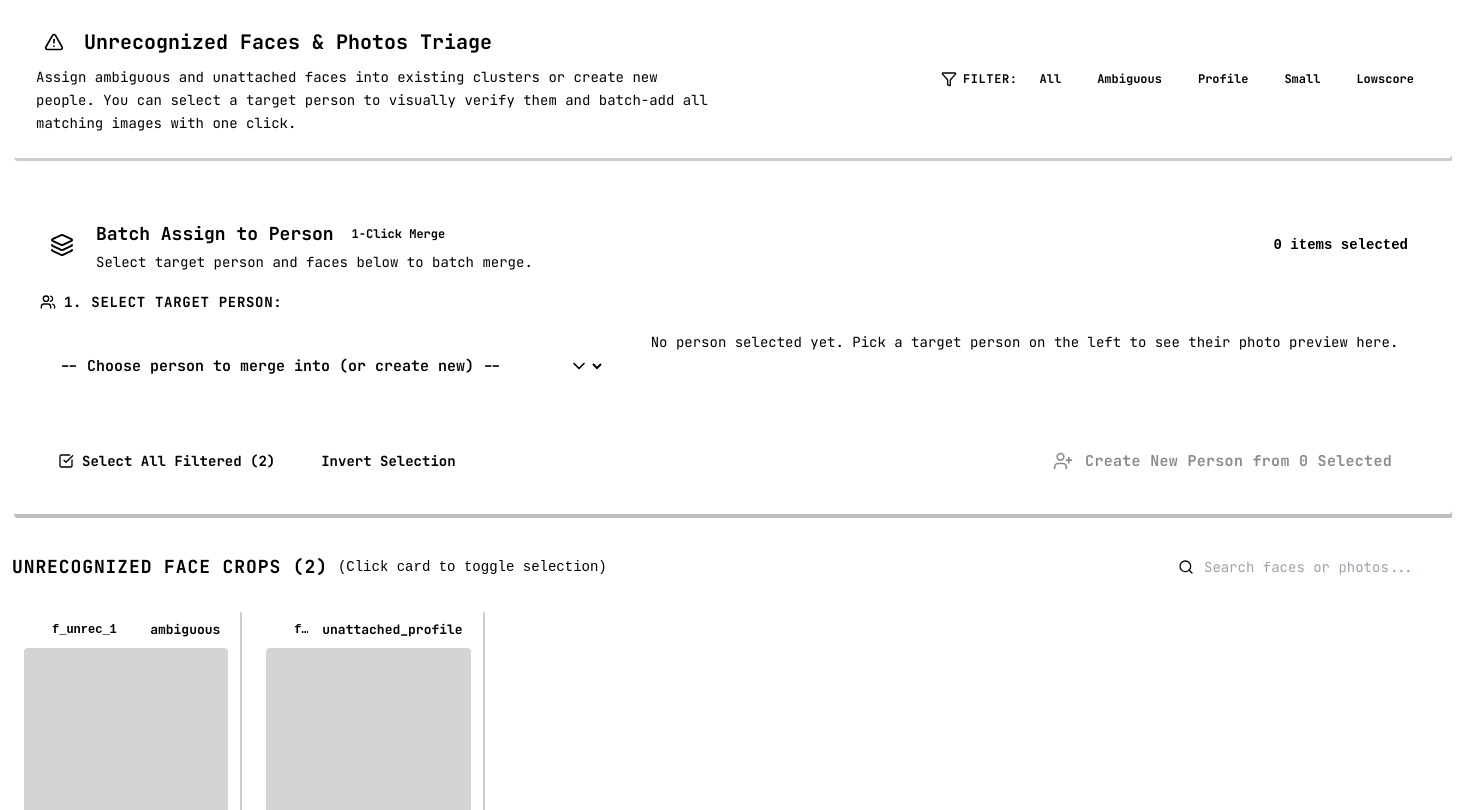
Scenario: Revamped Unrecognized Triage & Image Viewer › displays the target person preview when a person is selected in batch picker so user knows if correct to merge
The width and height of the screenshot is (1464, 810).
// Select Alice
Select "Alice Smith (person_alice) — 2 photos" in the dropdown with id "batch-target-person-select" at (322, 366), box [40,340,605,392]
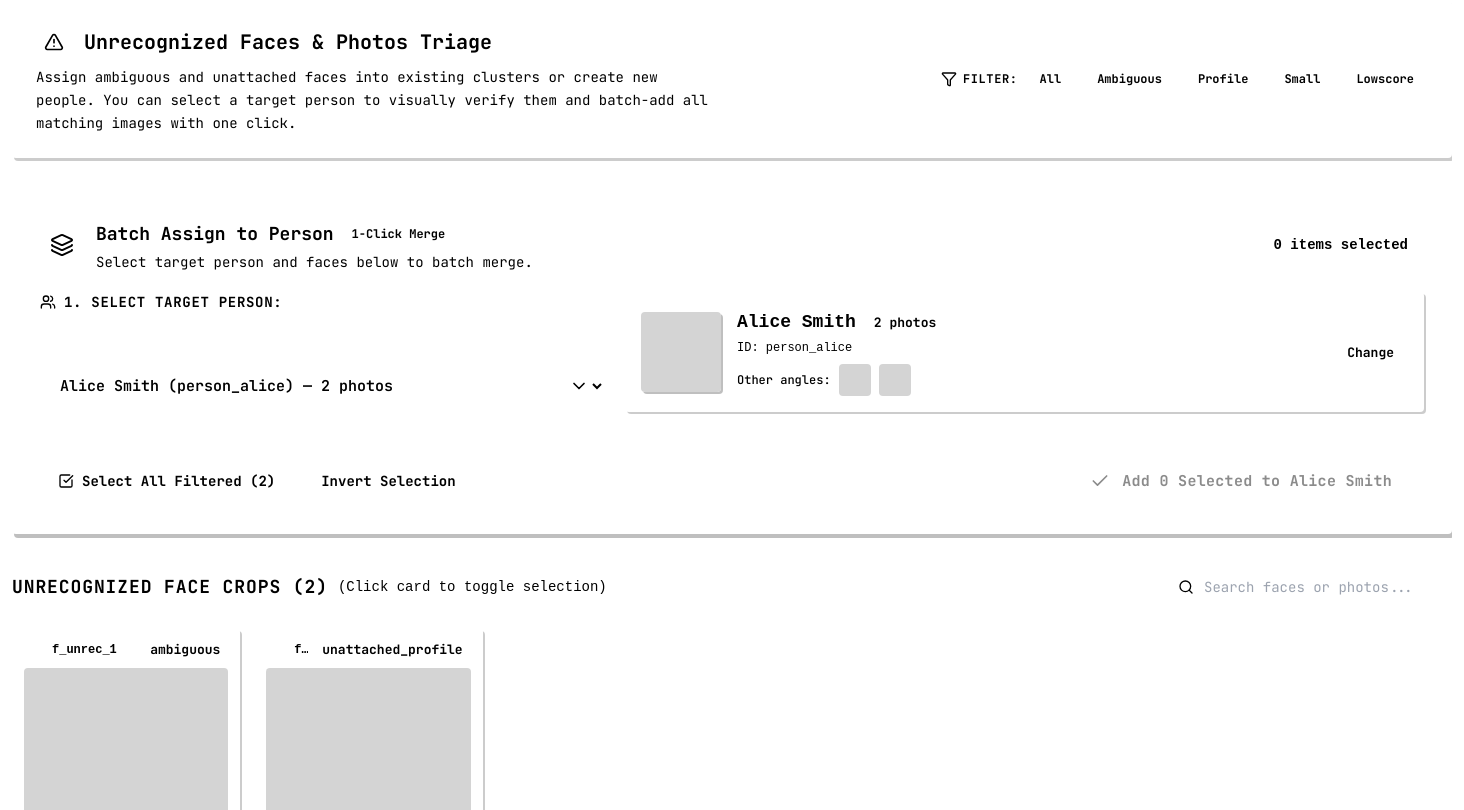
Expected: the element with id "batch-target-person-preview" shows "Alice Smith", [737,312,856,332]
Expected: the element with id "batch-target-person-preview" shows "2 photos", [625,292,1424,412]
